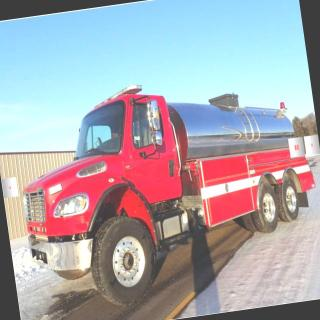Fire_truck: (7, 60, 320, 319)
